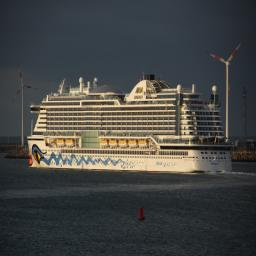cruises: (28, 74, 239, 177)
